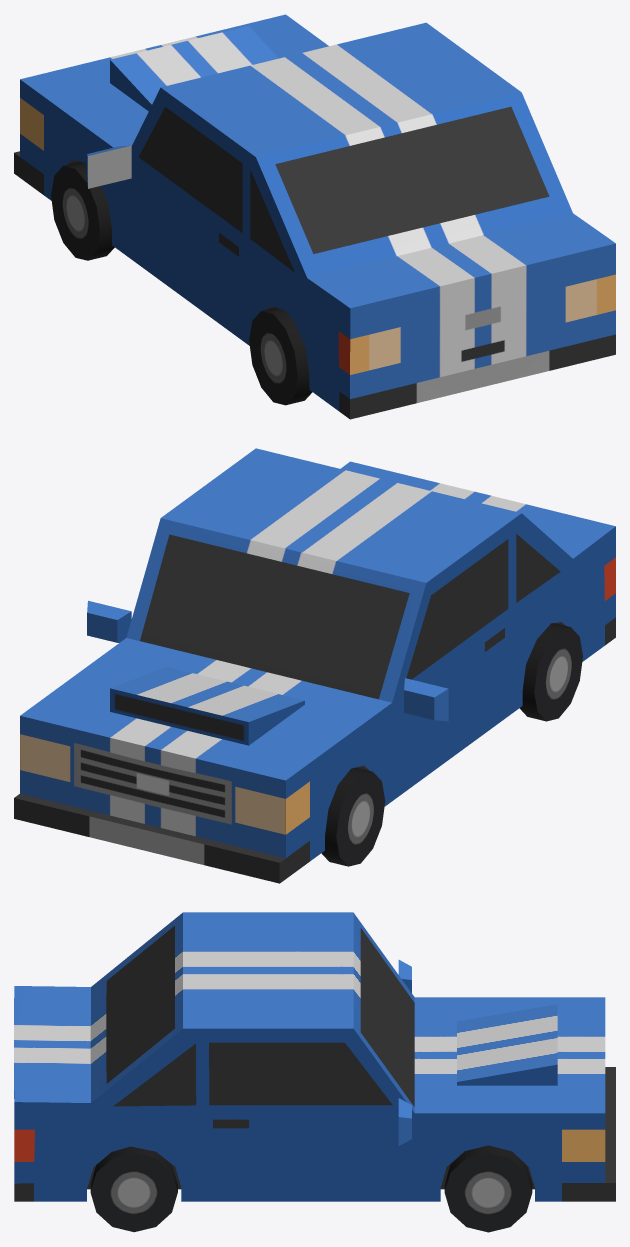
File: muscle_car_separated.fbx
3 renders of one model, top to bottom at view 1: azimuth 30°, elevation 25°; view 2: azimuth 150°, elevation 25°; view 3: azimuth 270°, elevation 25°, orthographic. The views are drawn at different scales.
Parts seen in each view (by area): view 1: SimpleCar, SimpleCar_bl_wheel, SimpleCar_fl_wheel; view 2: SimpleCar, SimpleCar_fl_wheel, SimpleCar_bl_wheel; view 3: SimpleCar, SimpleCar_fr_wheel, SimpleCar_br_wheel.
Part boxes in pixels (x1,y1,x2,y2): SimpleCar: (14, 14, 615, 419); SimpleCar_bl_wheel: (249, 307, 312, 405); SimpleCar_fl_wheel: (51, 161, 114, 260); SimpleCar: (14, 448, 615, 883); SimpleCar_fl_wheel: (321, 767, 385, 866); SimpleCar_bl_wheel: (519, 623, 582, 721); SimpleCar: (14, 912, 615, 1201); SimpleCar_fr_wheel: (444, 1145, 532, 1232); SimpleCar_br_wheel: (90, 1146, 177, 1232).
Size of the model in its own units: 3.45 by 2.04 by 5.57.
Materials: 1 (1 with a texture image).
